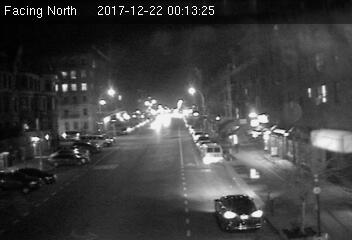car: (214, 194, 268, 231)
truck: (201, 143, 226, 167)
